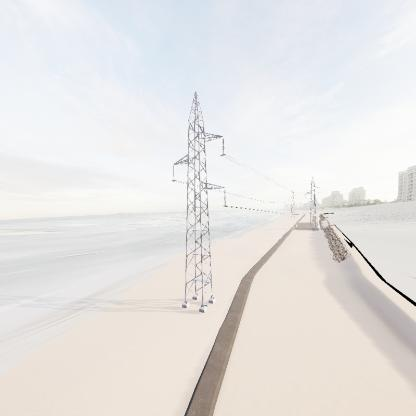tower: (169, 89, 228, 315)
